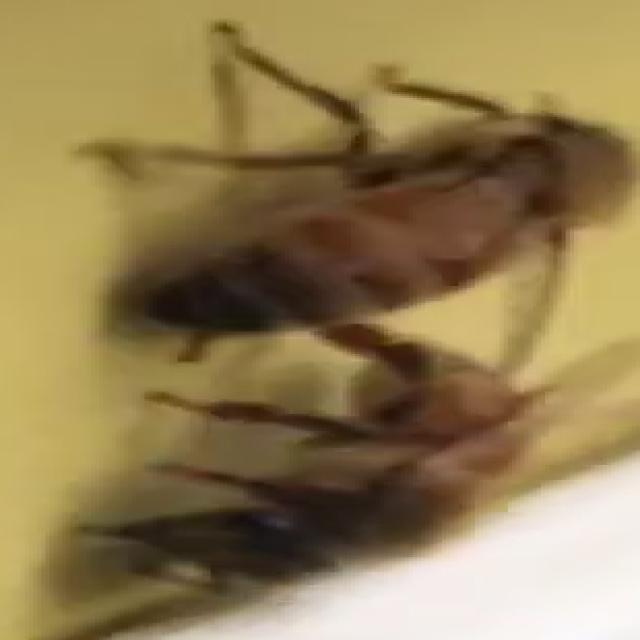honeybee: (54, 19, 624, 327), (116, 343, 582, 619)
